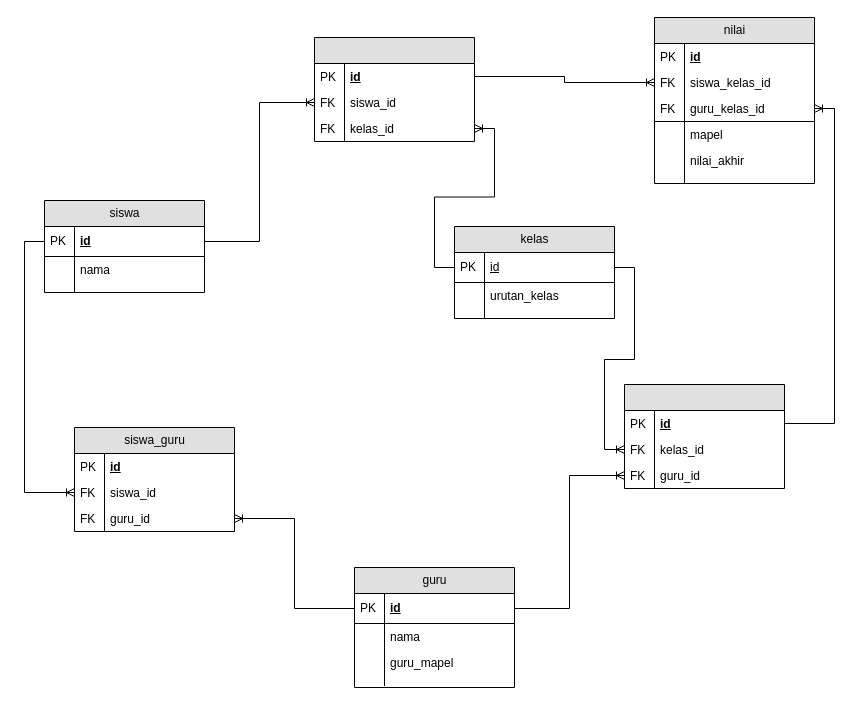
Some shapes in this 860 by 705 pixel diagram are drawn without their labels. The shapes that lost their labels are listed below. From the top down, each one's box as (x1, y1, x2, y2) in pixels, then its label:
(314, 36, 474, 142): siswa_kelas
(624, 384, 784, 488): guru_kelas
